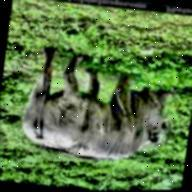boar: (21, 50, 192, 174)
